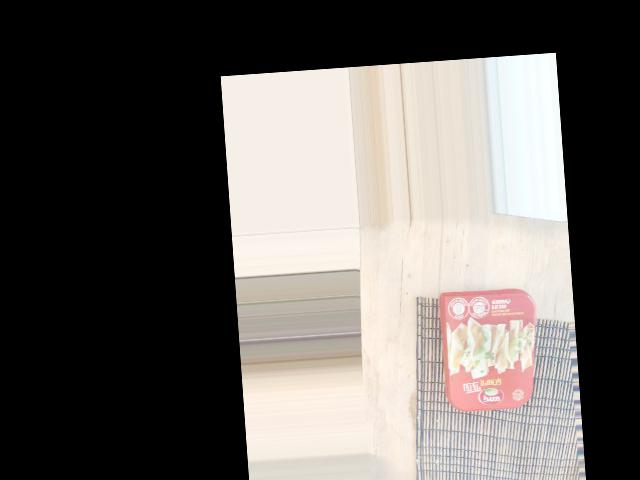cheese: (453, 361, 592, 457)
